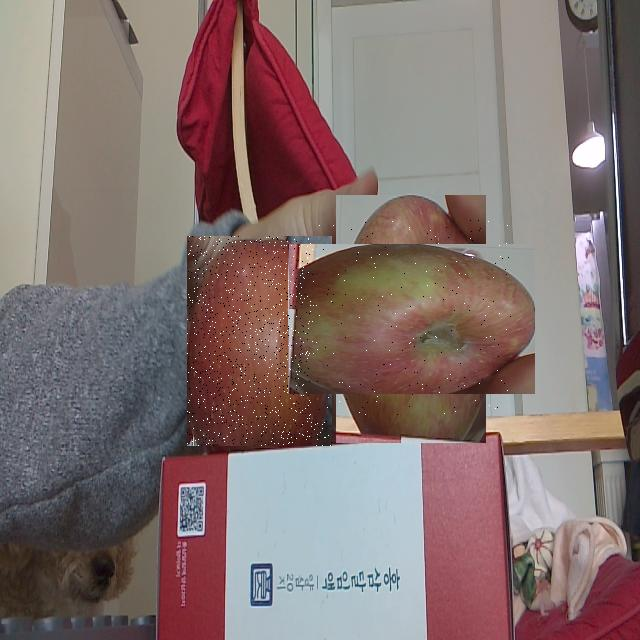apple: (311, 220, 511, 419), (187, 236, 332, 446)
